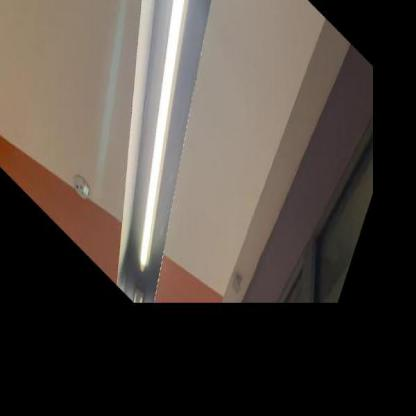light_on: (79, 0, 249, 288)
